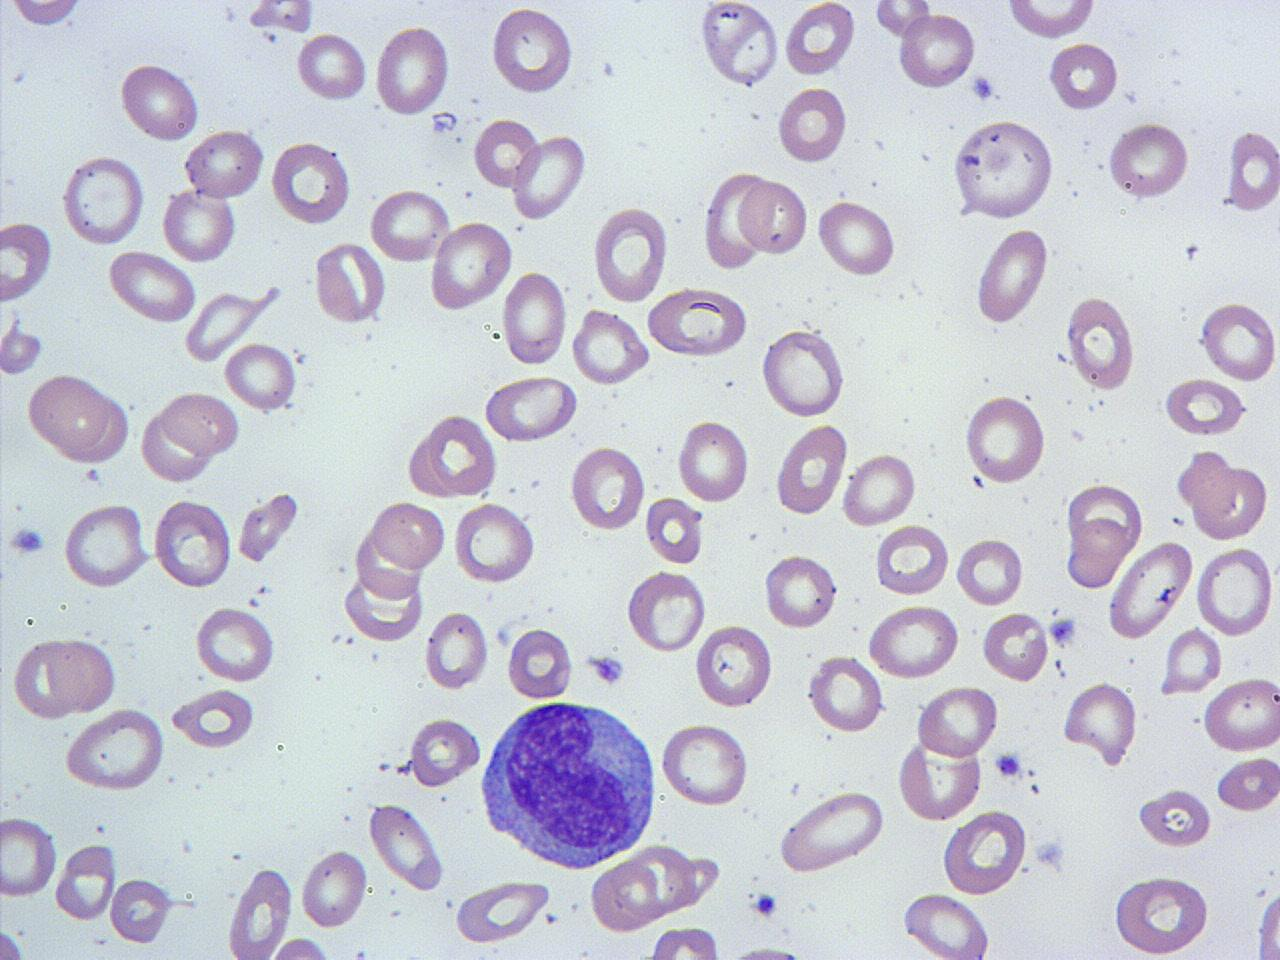Platelets: (248, 1, 314, 35), (582, 650, 628, 690), (4, 524, 48, 558), (1031, 837, 1069, 870), (1048, 614, 1078, 646), (993, 750, 1025, 780), (970, 70, 998, 103), (429, 109, 460, 135), (753, 890, 778, 916), (219, 4, 237, 25), (83, 466, 103, 482), (1052, 658, 1066, 676)
RBC: (950, 118, 1056, 221), (778, 790, 886, 875), (1106, 538, 1194, 642), (62, 708, 168, 794), (1111, 872, 1213, 958), (428, 216, 514, 316), (60, 151, 146, 248), (658, 720, 752, 808), (760, 325, 847, 420), (489, 4, 575, 98), (592, 204, 670, 307), (62, 500, 149, 592), (962, 392, 1047, 486), (973, 223, 1050, 326), (941, 807, 1028, 898), (896, 733, 984, 822), (152, 498, 235, 589), (645, 287, 749, 359), (864, 603, 960, 681), (1197, 543, 1275, 639), (25, 370, 112, 456), (696, 2, 782, 89), (269, 138, 352, 228), (451, 500, 536, 587), (373, 22, 450, 118), (625, 566, 707, 656), (774, 419, 848, 518), (367, 802, 448, 892), (1106, 118, 1192, 202), (1064, 294, 1136, 394), (510, 131, 588, 222), (118, 60, 202, 144), (895, 8, 978, 93), (694, 622, 774, 710), (420, 411, 499, 500), (1062, 678, 1138, 770), (452, 877, 554, 945), (500, 269, 568, 370), (914, 682, 1002, 760), (1199, 296, 1277, 384), (106, 250, 197, 324), (702, 170, 770, 269), (1189, 459, 1271, 541), (193, 604, 277, 684), (675, 418, 751, 506), (570, 444, 646, 532), (815, 198, 898, 278), (226, 864, 295, 960), (482, 374, 578, 443), (1200, 674, 1280, 756), (184, 285, 266, 364), (368, 187, 450, 265), (570, 308, 652, 386), (183, 126, 266, 202), (340, 572, 426, 645), (314, 239, 387, 325), (900, 892, 992, 960), (159, 185, 238, 264), (738, 174, 810, 260), (762, 551, 840, 629), (806, 654, 882, 734), (782, 0, 858, 80), (842, 450, 918, 529), (11, 636, 80, 722), (299, 845, 368, 931), (1067, 480, 1143, 558), (872, 522, 950, 598), (776, 84, 848, 166), (169, 685, 257, 752), (351, 524, 425, 602), (626, 842, 700, 918), (589, 859, 663, 935), (369, 499, 447, 571), (294, 30, 369, 104), (408, 714, 481, 790), (424, 608, 490, 692), (1046, 40, 1120, 114), (223, 340, 298, 413), (50, 635, 118, 715), (63, 386, 132, 464), (160, 390, 241, 455), (1161, 377, 1247, 438), (473, 116, 542, 192), (506, 625, 574, 702), (1136, 786, 1214, 852), (53, 842, 116, 923), (235, 489, 301, 566), (1, 813, 59, 900), (955, 536, 1025, 608), (1176, 446, 1240, 524), (978, 610, 1047, 682), (1224, 127, 1280, 215), (109, 874, 175, 948), (1064, 516, 1126, 591), (0, 219, 54, 305), (1162, 624, 1224, 696), (644, 493, 704, 567), (1002, 0, 1102, 41), (1214, 754, 1278, 816), (646, 924, 723, 960), (872, 0, 934, 40), (5, 0, 84, 30), (1251, 881, 1279, 960), (258, 934, 340, 960)
WBC: (471, 693, 661, 874)
